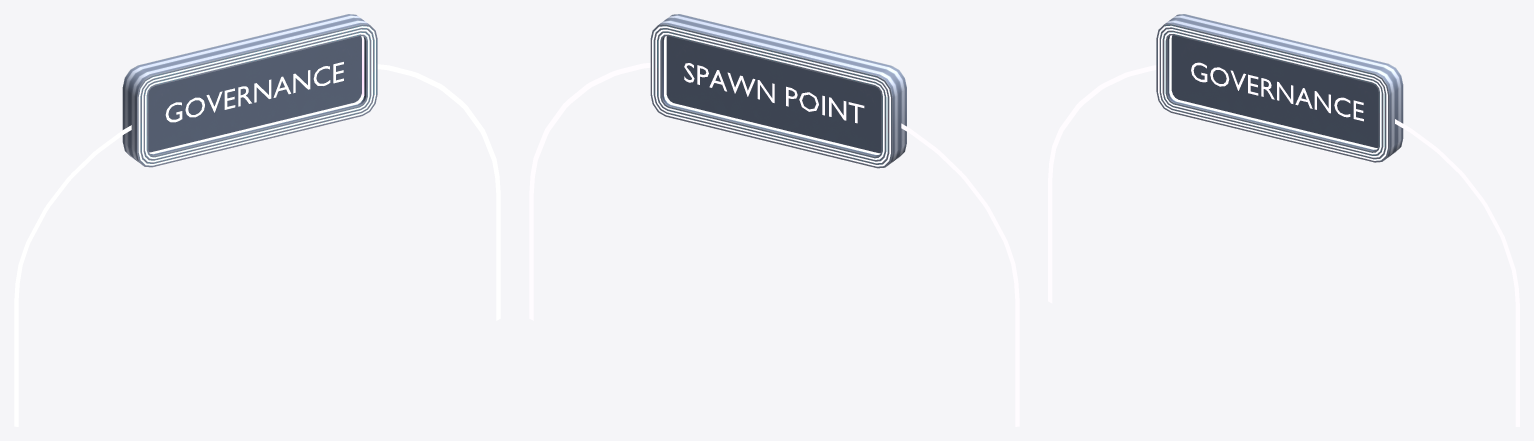
File: obj_sign04.gltf
3 renders of one model, left to right at view 1: azimuth 30°, elevation 25°; view 2: azimuth 150°, elevation 25°; view 3: azimuth 330°, elevation 25°, orthographic. The views are drawn at different scales.
Parts seen in each view (by area): view 1: obj_sign04; view 2: obj_sign04; view 3: obj_sign04.
Boxes of the visible parts, x1,y1,x2,y2 form: obj_sign04: (14,14,500,426); obj_sign04: (529,14,1019,426); obj_sign04: (1048,14,1519,426).
Size of what is drawn, in the model's own units: 8.63 by 5.67 by 0.439.
Materials: 2 (1 with a texture image).
